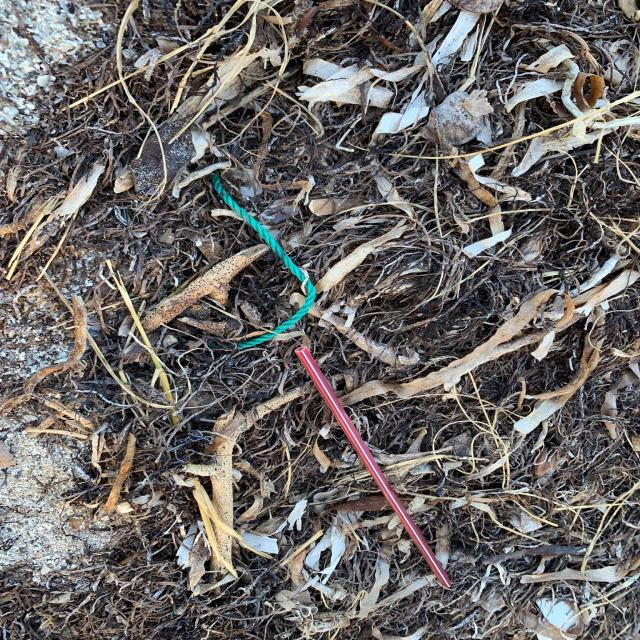litter: (292, 345, 452, 588), (204, 170, 316, 349)
